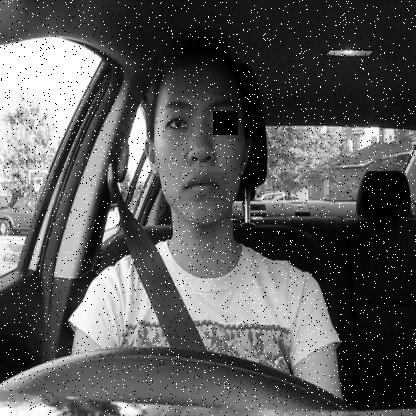seatbelt: (132, 25, 264, 348)
